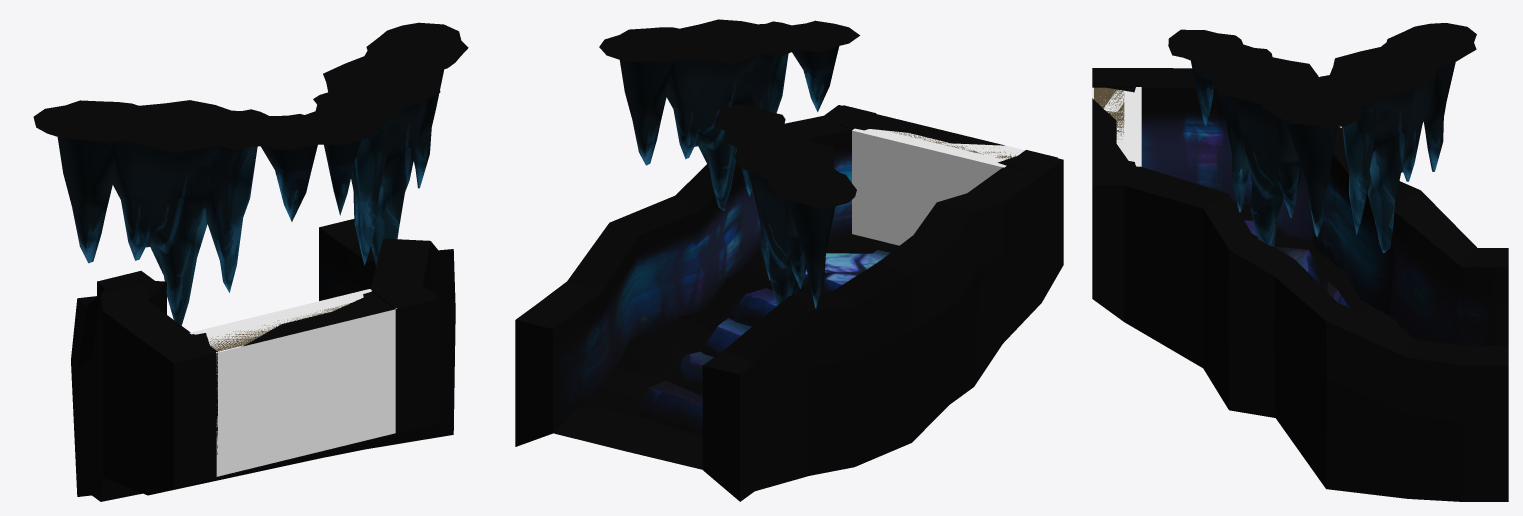
File: Dungeon_052_GoalStep_003.fbx
3 views of the same model, side by side, from view 1: azimuth 30°, elevation 25°; view 2: azimuth 150°, elevation 25°; view 3: azimuth 270°, elevation 25° (orthographic). The views are drawn at different scales.
Parts seen in each view (by area): view 1: Dan1, Dungeon_011_Iwa004_1, DoorWay_NavMask (1), Dungeon_011_Iwa004_1 (1), Dun_011_Door_002, Dun_011_Door_003_WarpRoom; view 2: Dan1, Dungeon_011_Iwa004_1 (1), Dungeon_011_Iwa004_1, DoorWay_NavMask (1), Dan1_shadow, Dan2, Dun_011_Door_002; view 3: Dan1, Dungeon_011_Iwa004_1 (1), Dungeon_011_Iwa004_1, Dun_011_Door_002, Dan1_shadow, DoorWay_NavMask (1), Dan2, Dun_011_Door_003_WarpRoom.
Part boxes in pixels (<box>): Dan1: <box>71,219,455,501</box>; Dungeon_011_Iwa004_1: <box>33,100,317,325</box>; DoorWay_NavMask (1): <box>190,289,396,476</box>; Dungeon_011_Iwa004_1 (1): <box>299,22,468,265</box>; Dun_011_Door_002: <box>156,281,433,477</box>; Dun_011_Door_003_WarpRoom: <box>210,303,350,351</box>; Dan1: <box>515,105,1063,501</box>; Dungeon_011_Iwa004_1 (1): <box>599,19,859,210</box>; Dungeon_011_Iwa004_1: <box>714,104,856,308</box>; DoorWay_NavMask (1): <box>852,128,1024,245</box>; Dan1_shadow: <box>553,231,887,468</box>; Dan2: <box>553,250,935,469</box>; Dun_011_Door_002: <box>824,105,1057,231</box>; Dan1: <box>1092,68,1508,501</box>; Dungeon_011_Iwa004_1 (1): <box>1168,29,1362,246</box>; Dungeon_011_Iwa004_1: <box>1319,23,1476,253</box>; Dun_011_Door_002: <box>1092,70,1138,182</box>; Dan1_shadow: <box>1234,202,1412,338</box>; DoorWay_NavMask (1): <box>1092,87,1141,166</box>; Dan2: <box>1244,220,1350,308</box>; Dun_011_Door_003_WarpRoom: <box>1094,87,1124,139</box>.
Size of what is drawn, in the model's own units: 7.31 by 6.63 by 6.73.
